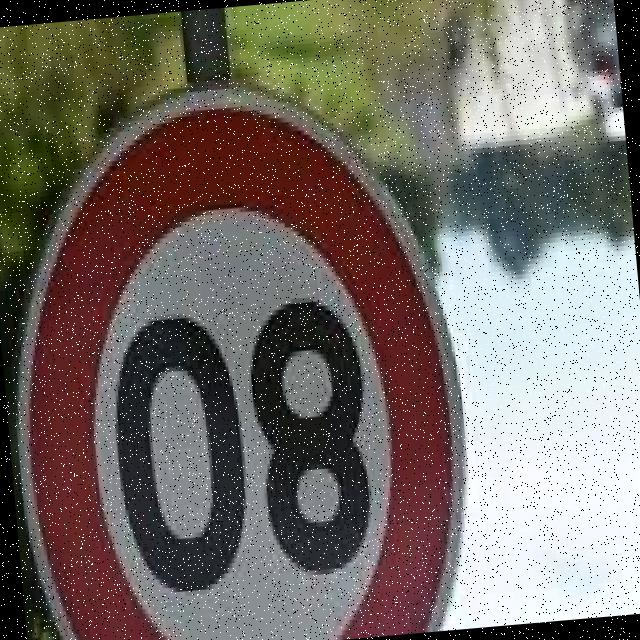speed_limit_80: (0, 51, 487, 640)
